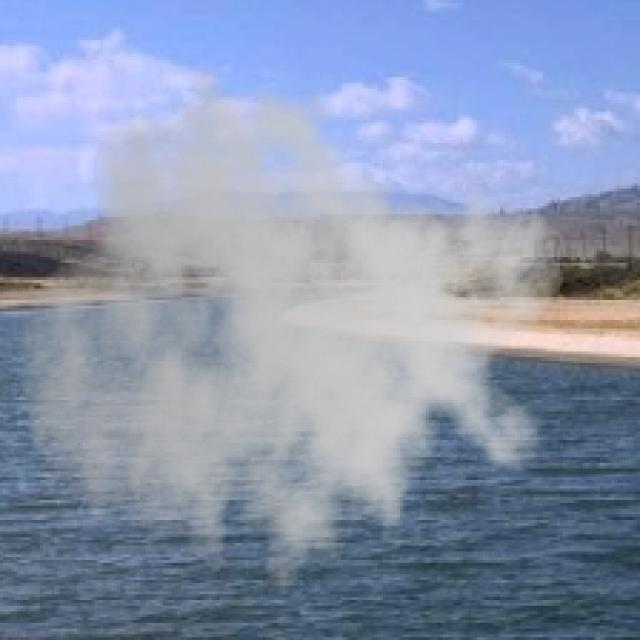Smoke: (17, 54, 566, 623)
